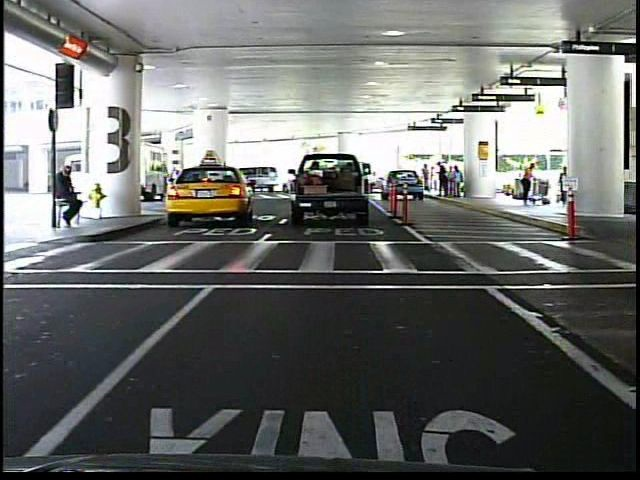person: (57, 160, 88, 231), (518, 158, 540, 209), (557, 159, 573, 211), (421, 162, 434, 196)
